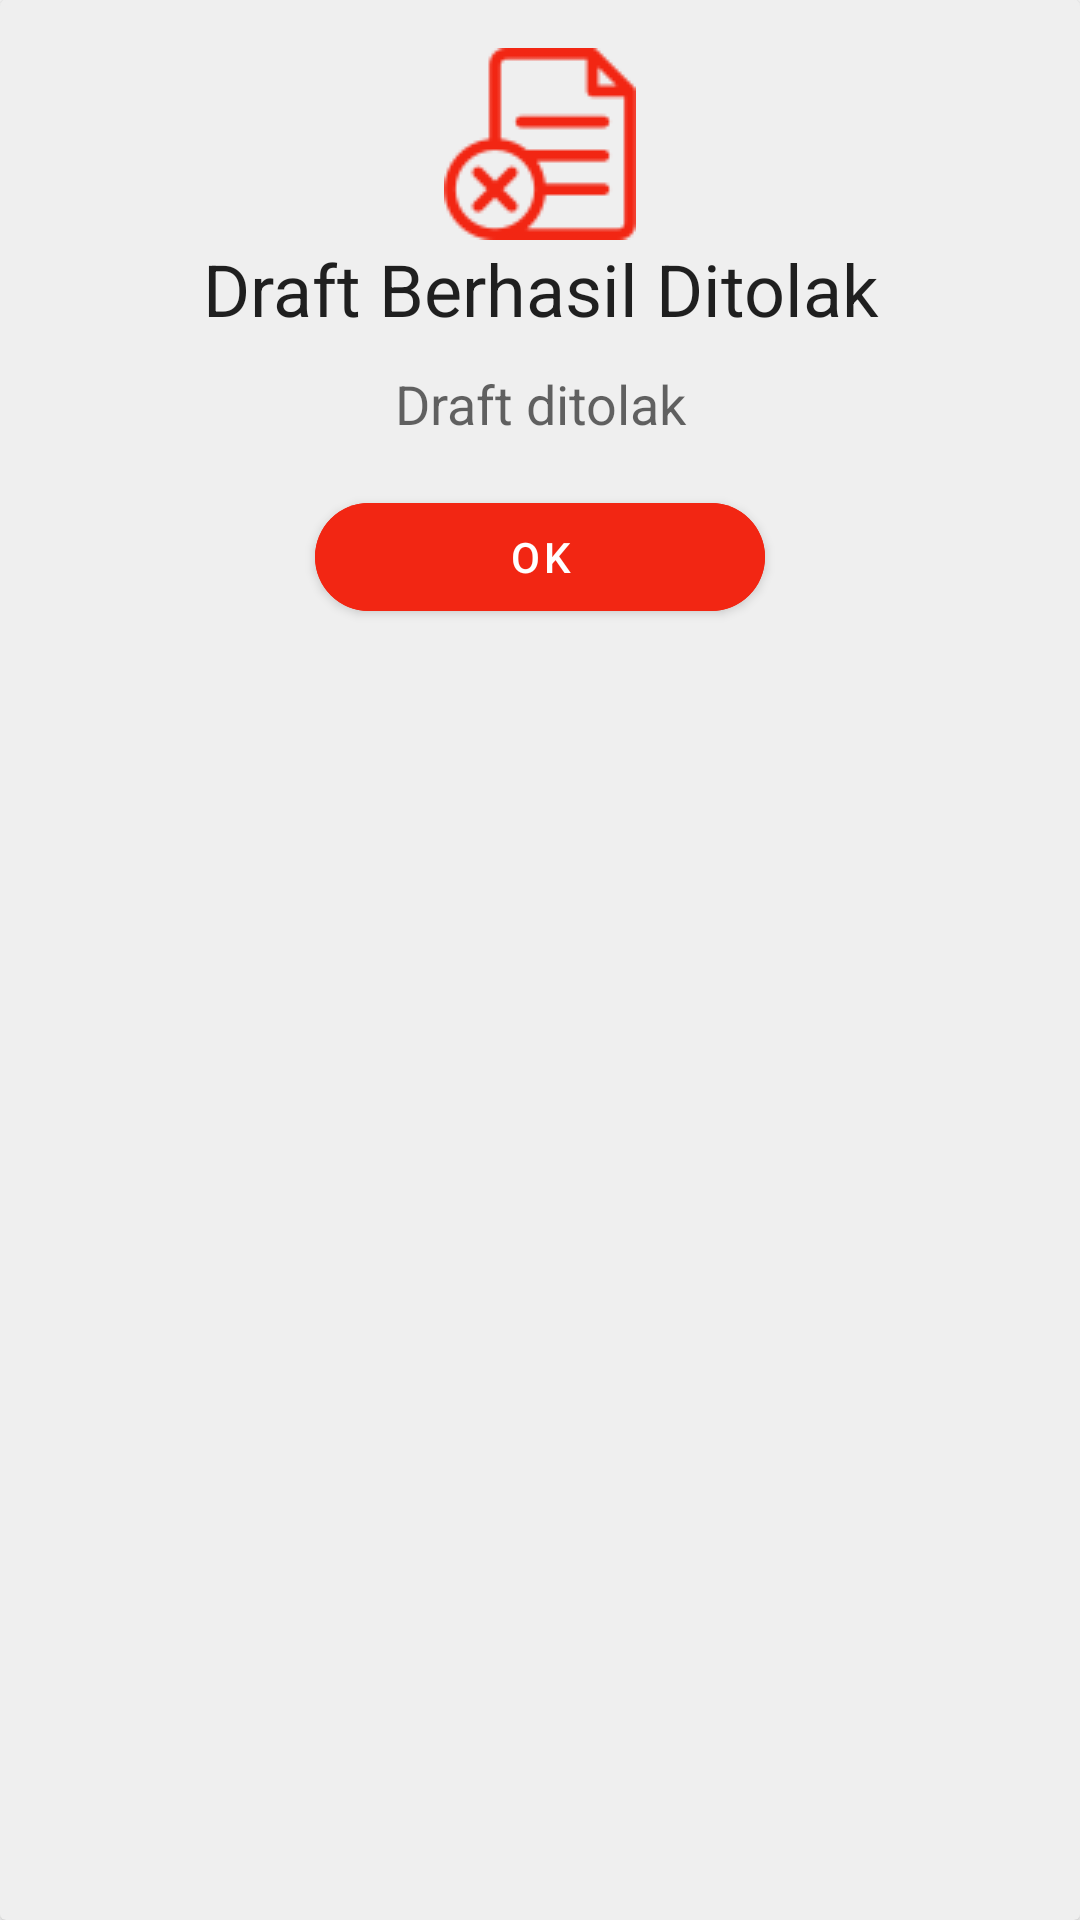

Locate icon controls on the screen. Image size 1080x1920, boxes as detection(x1, y1, x2, y2).
file reject: detection(444, 48, 636, 240)
